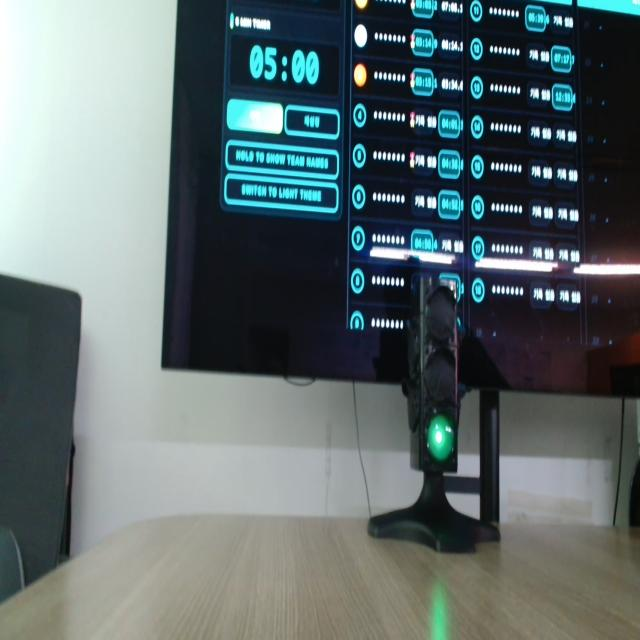green_light: (427, 414, 455, 462)
